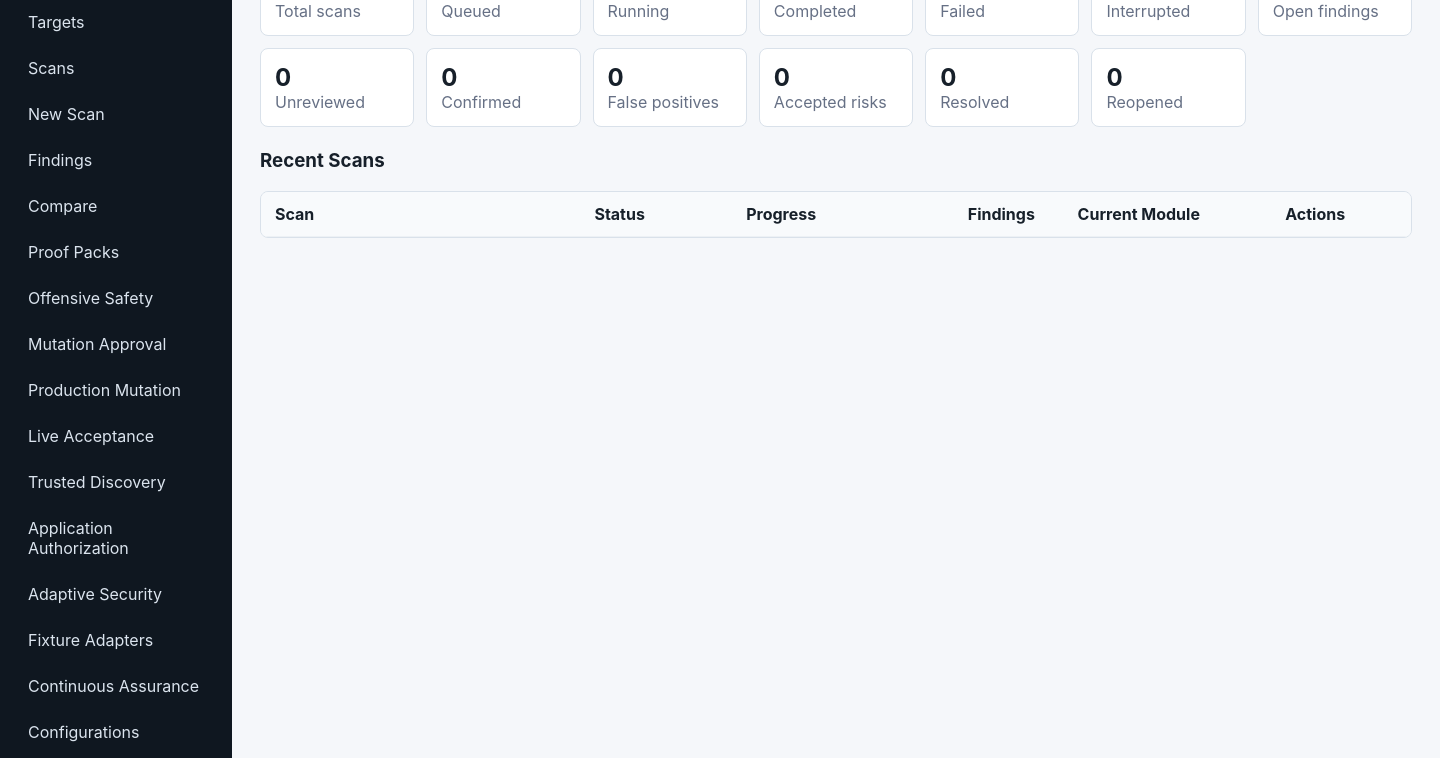
Test: production mutation workspace › opens the production safety gate and only lists production-enabled targets
(page scrolled)
Click the button "Production Mutation": (116, 390) [16,370,216,410]
(page scrolled)
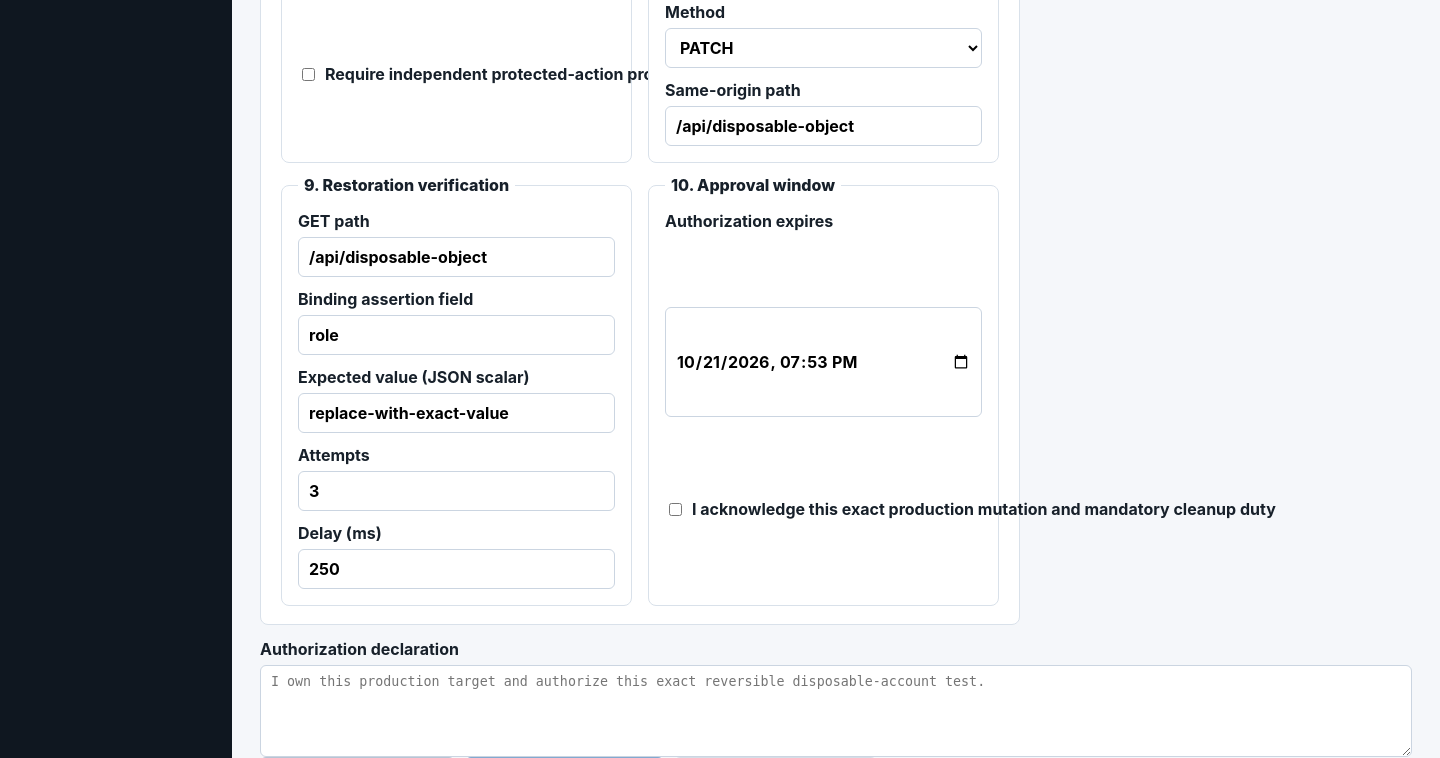
Expected: the element "10. Approval window" is shown, [648,175,999,606]
